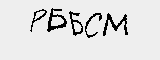Б: (68, 9, 86, 38), (47, 5, 64, 33)
М: (100, 12, 130, 37)
Р: (27, 8, 47, 34)
С: (83, 11, 102, 40)
